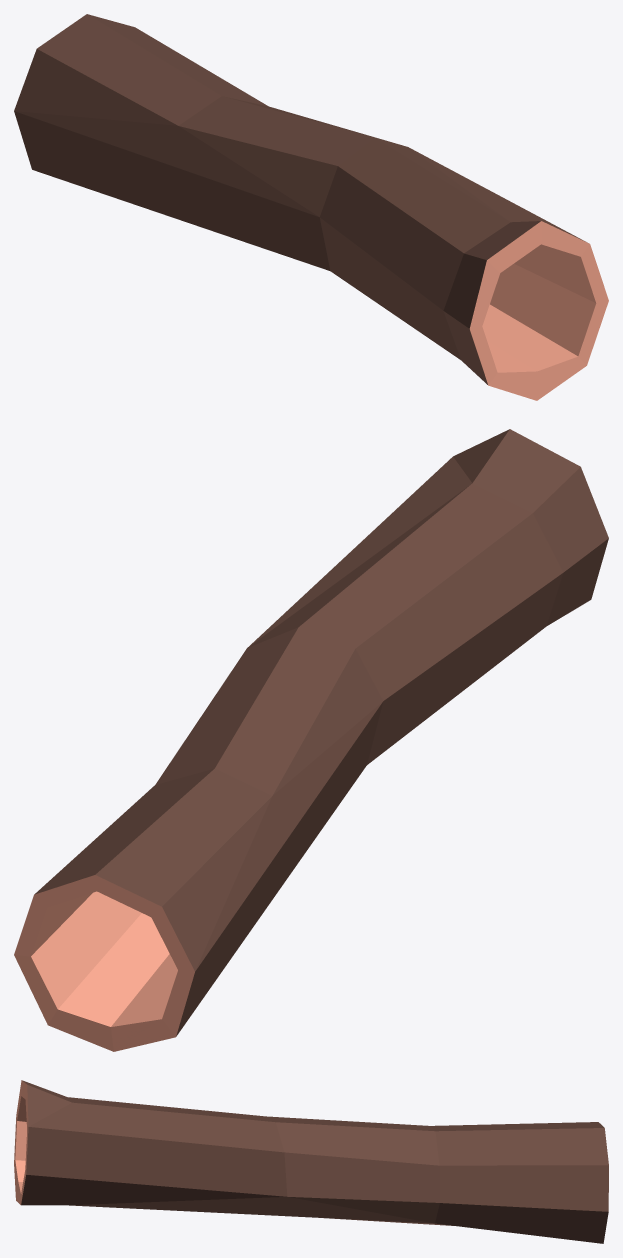
File: props_011.glb
The picture shows the model from 3 angles, top to bottom: view 1: azimuth 30°, elevation 25°; view 2: azimuth 150°, elevation 25°; view 3: azimuth 270°, elevation 25°; orthographic projection. The views are drawn at different scales.
Parts seen in each view (by area): view 1: props_011; view 2: props_011; view 3: props_011.
Boxes of the visible parts, <box> form: props_011: <box>14,14,608,400</box>; props_011: <box>14,429,608,1051</box>; props_011: <box>14,1080,608,1243</box>.
Size of the model in its own units: 1.21 by 1.46 by 4.64.
Materials: 1 (1 with a texture image).
